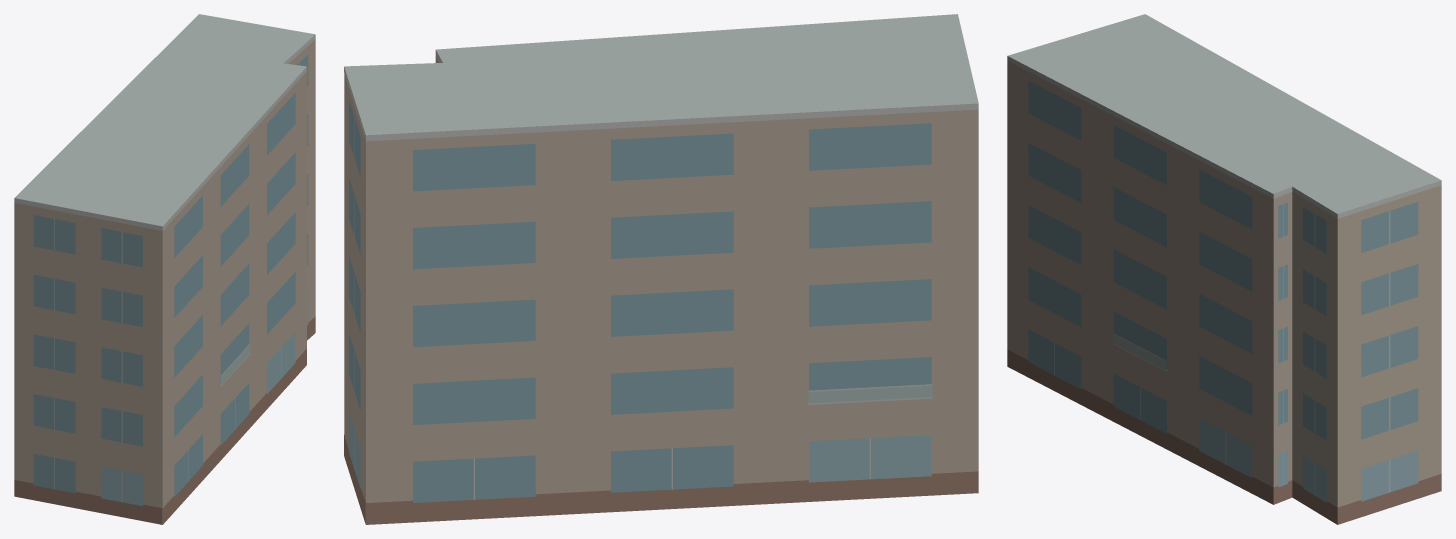
File: survey-upis-33018919.glb
3 views of the same model, side by side, from view 1: azimuth 30°, elevation 25°; view 2: azimuth 150°, elevation 25°; view 3: azimuth 270°, elevation 25° (orthographic). The views are drawn at different scales.
Visible parts, largest first — view 1: survey-upis-33018919.tmp; view 2: survey-upis-33018919.tmp; view 3: survey-upis-33018919.tmp.
Part boxes in pixels (x1=…): survey-upis-33018919.tmp: x1=14, y1=14, x2=315, y2=524; survey-upis-33018919.tmp: x1=344, y1=14, x2=978, y2=524; survey-upis-33018919.tmp: x1=1007, y1=14, x2=1441, y2=524.
Bounding box in the file's own units: 21.63 × 15.66 × 19.84.
